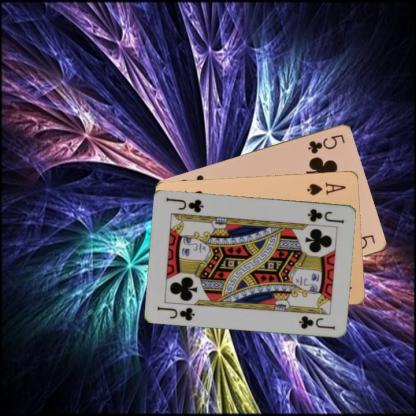5c: (306, 131, 346, 155)
As: (304, 179, 348, 197)
Jc: (155, 303, 196, 322), (305, 206, 347, 224)
